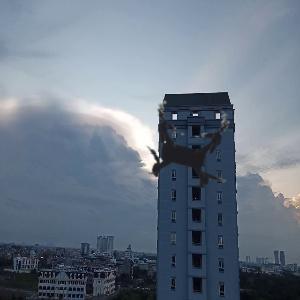drone: (106, 69, 268, 231)
